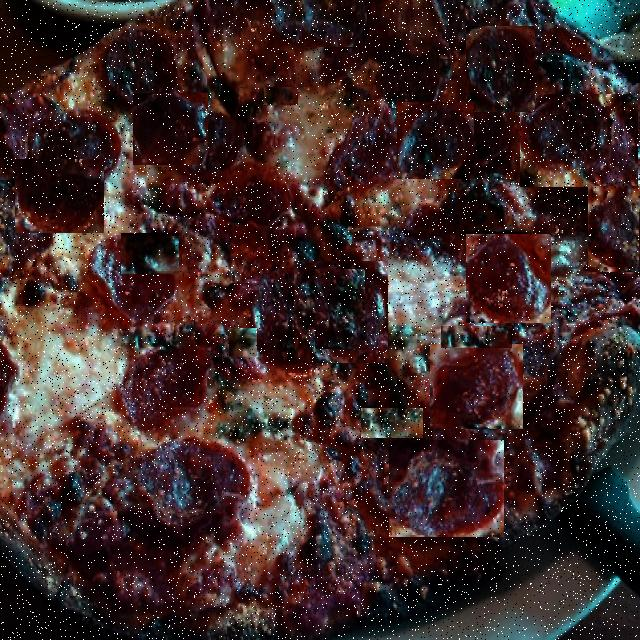Basil: (171, 404, 222, 491), (316, 270, 365, 349), (121, 234, 179, 274), (361, 409, 422, 437), (441, 327, 512, 348), (319, 274, 346, 304), (230, 330, 256, 356), (264, 88, 298, 105), (385, 100, 401, 124), (439, 59, 452, 84), (508, 71, 521, 85)
Pepperoni: (0, 0, 640, 640), (521, 94, 639, 187), (391, 440, 504, 537), (173, 429, 279, 531), (295, 262, 387, 362), (431, 345, 523, 429), (466, 235, 551, 323), (237, 99, 310, 189), (16, 159, 103, 233), (466, 27, 535, 112), (397, 102, 474, 178), (133, 94, 208, 164), (194, 48, 260, 127), (588, 186, 640, 272), (303, 0, 366, 47)
